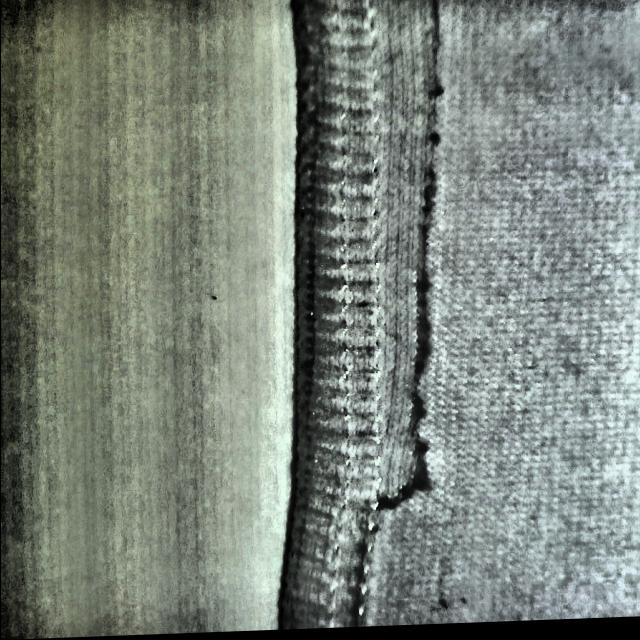seam: (289, 0, 471, 515)
